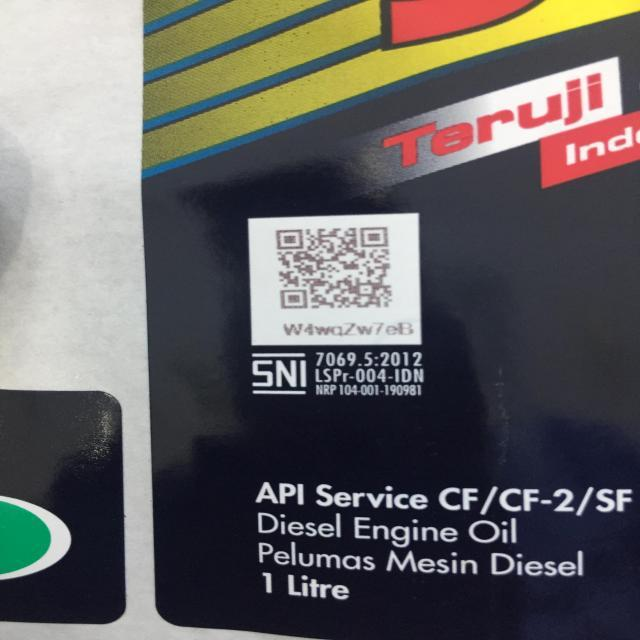QRCode: (272, 222, 400, 318)
